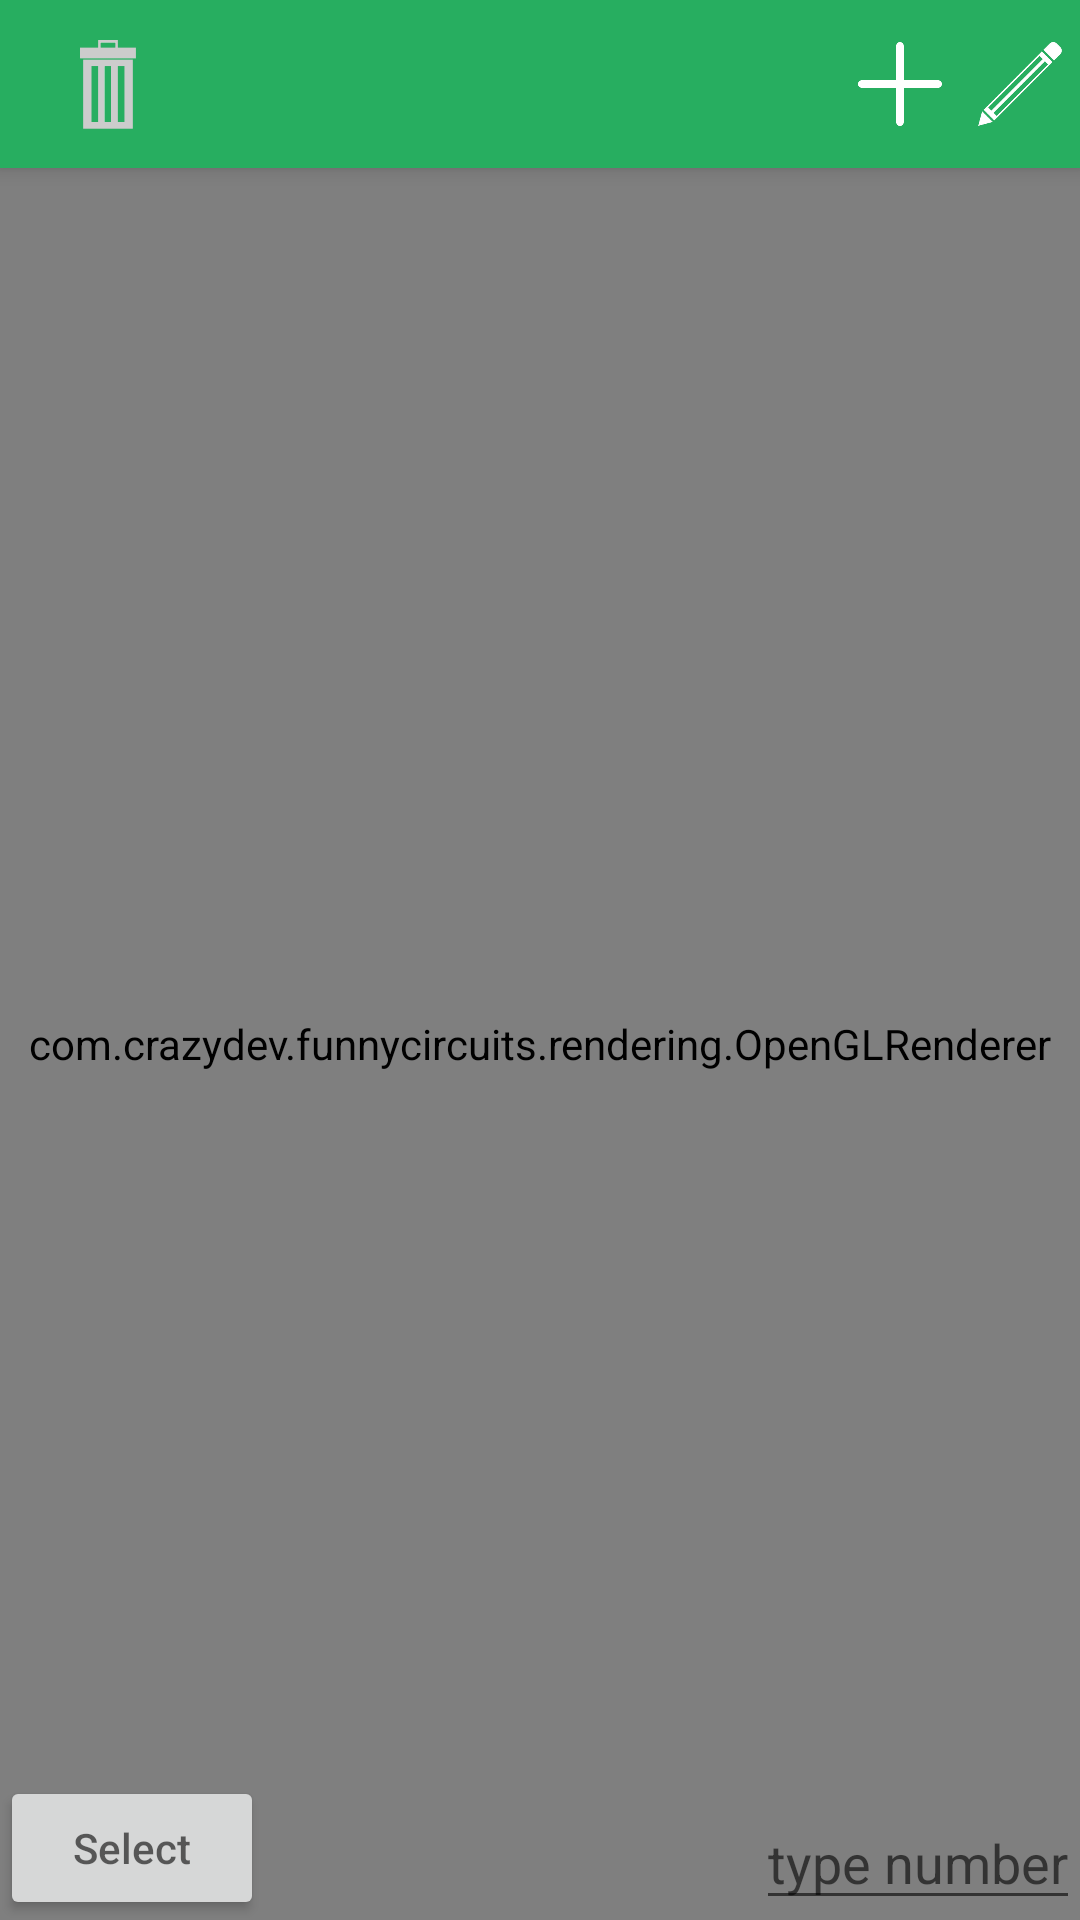

Icons on this 1080px×1920px Android screen, each with its box as rect(x1, y1, x2, y2):
basketbr: rect(80, 40, 136, 129)
pencil animation: rect(978, 42, 1062, 126)
plus: rect(858, 42, 942, 126)
